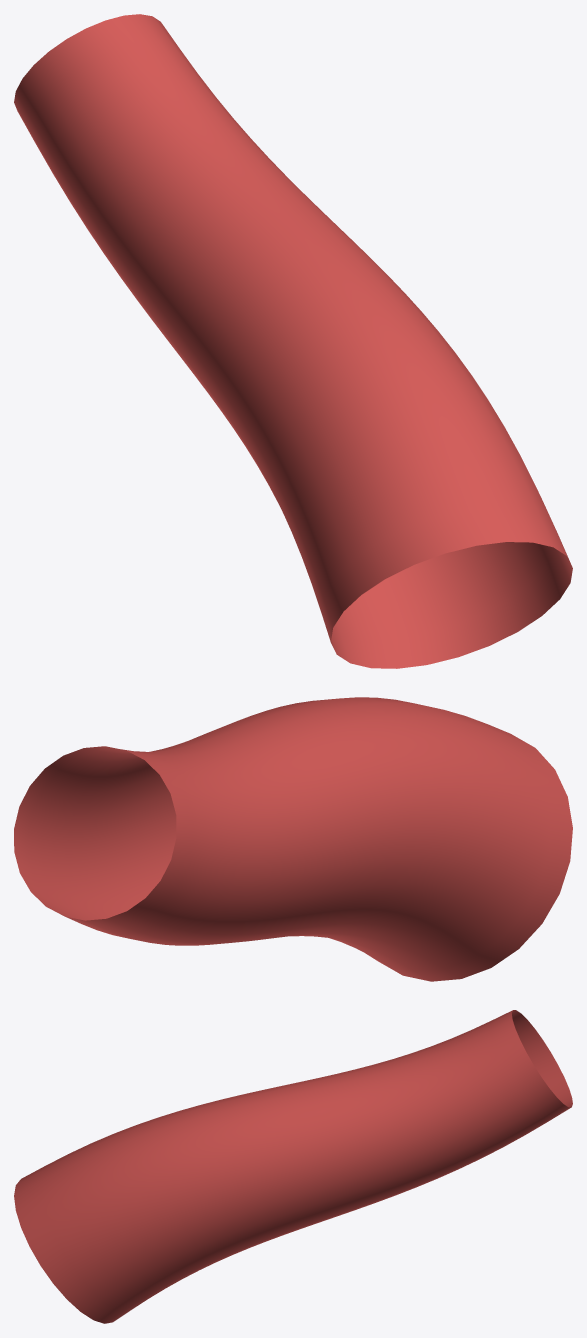
3 views of the same model, one above another, from view 1: azimuth 30°, elevation 25°; view 2: azimuth 150°, elevation 25°; view 3: azimuth 270°, elevation 25° (orthographic). The views are drawn at different scales.
Parts seen in each view (by area): view 1: 左侧髂内动脉前干; view 2: 左侧髂内动脉前干; view 3: 左侧髂内动脉前干.
Part boxes in pixels (x1,y1,x2,y2): 左侧髂内动脉前干: (14,14,572,668); 左侧髂内动脉前干: (14,697,572,981); 左侧髂内动脉前干: (14,1010,572,1323).
Bounding box in the file's own units: 0.00853 × 0.016 × 0.0277.
